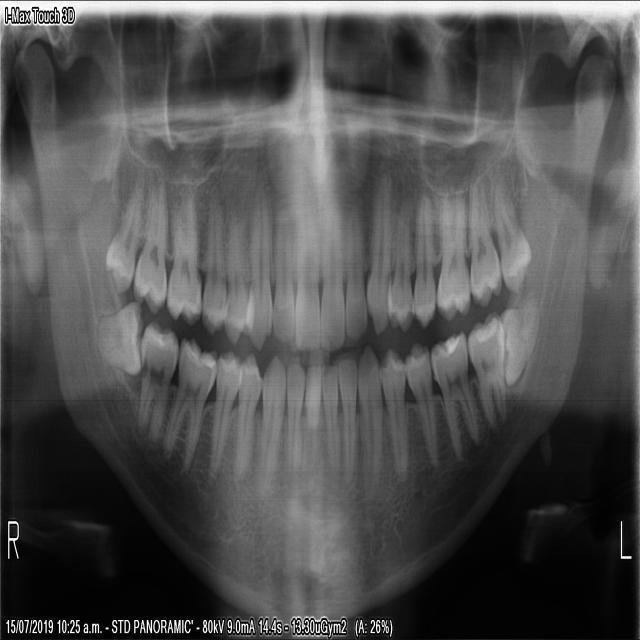LCD: (352, 334, 383, 496)
LCU: (363, 163, 395, 340)
LID: (335, 347, 357, 490), (318, 356, 341, 477)
LIU: (316, 187, 344, 357), (342, 199, 369, 350)
LMD: (427, 323, 480, 468), (463, 306, 508, 435), (495, 289, 542, 390)
LMU: (489, 165, 533, 298), (434, 177, 471, 323), (467, 173, 501, 309)
LPMD: (403, 336, 439, 475), (377, 340, 409, 485)
LPMU: (385, 186, 416, 333), (407, 181, 437, 330)
RCD: (249, 344, 285, 506)
RCU: (242, 175, 272, 354)
RID: (282, 354, 304, 490), (301, 352, 323, 471)
RIU: (292, 192, 321, 356), (270, 198, 294, 348)
RMD: (158, 329, 220, 477), (132, 310, 179, 449), (87, 296, 144, 378)
RMU: (100, 160, 146, 295), (128, 167, 169, 318), (165, 176, 202, 330)
RPMD: (203, 343, 243, 492), (228, 344, 262, 497)
RPMU: (221, 180, 254, 350), (198, 176, 227, 336)
